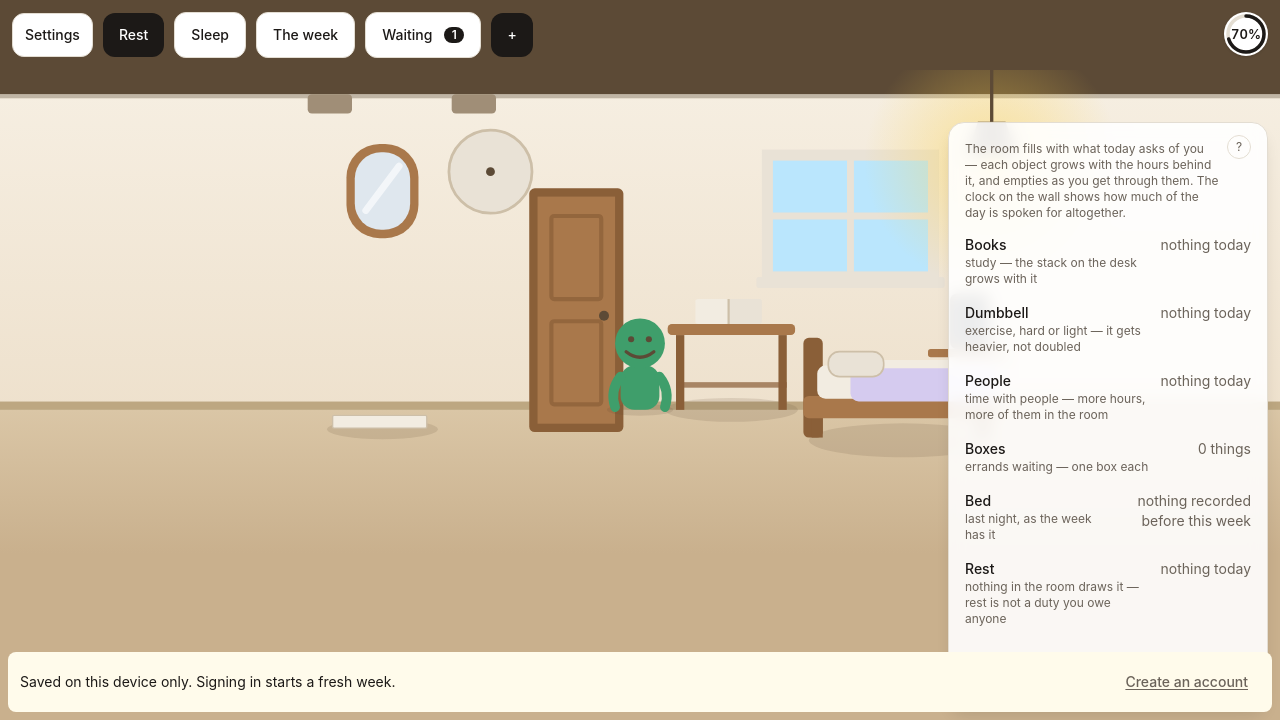
it: RoomShell with the planner › opens the planner and can be stepped back from without changing anything
Step 1. Click the button with test id "open-add" → coordinates (512, 35), box [491,13,533,57]
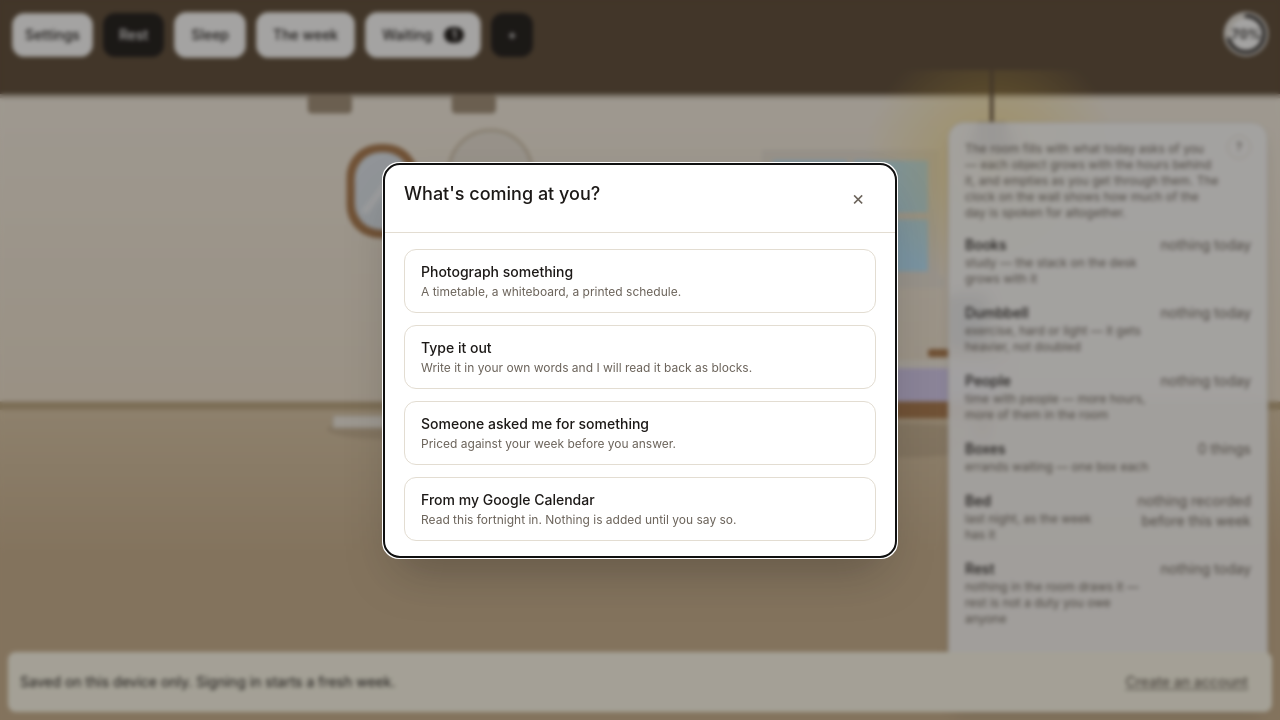
Step 2. Click the button with test id "add-type" → coordinates (640, 356), box [404,324,876,388]
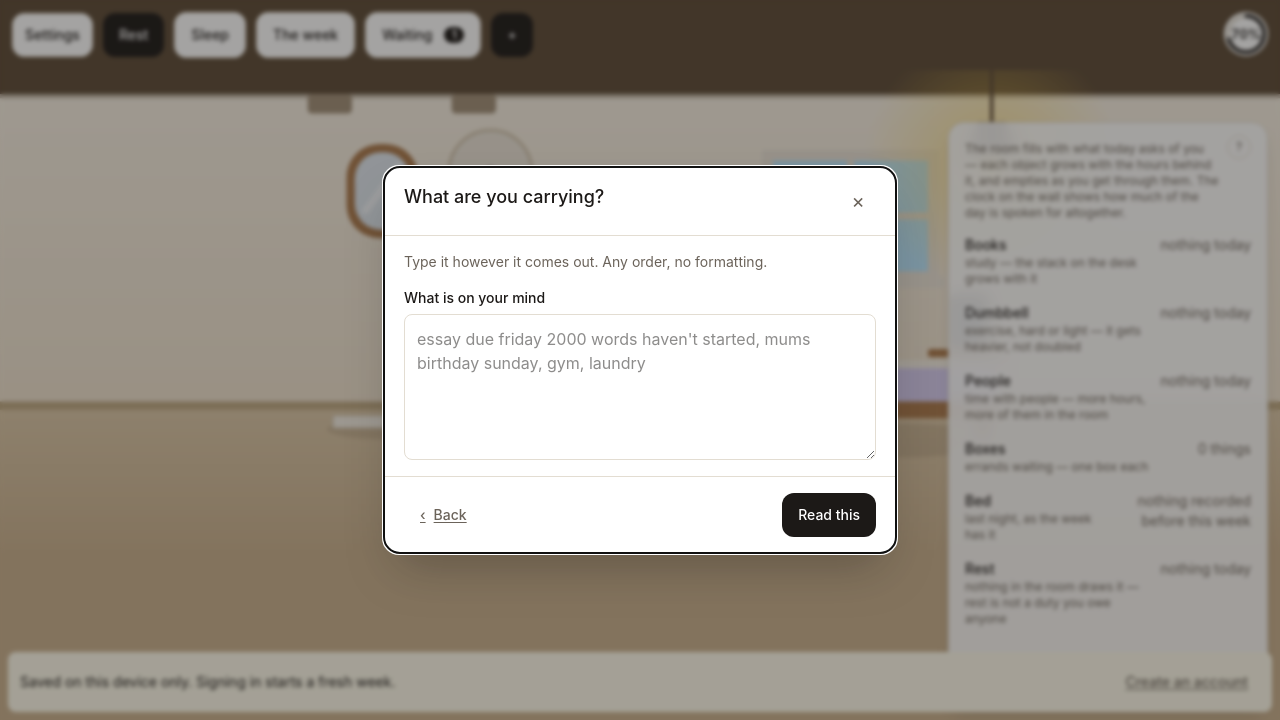
Step 3. Click the button with test id "sheet-back" → coordinates (443, 515), box [404,493,483,537]
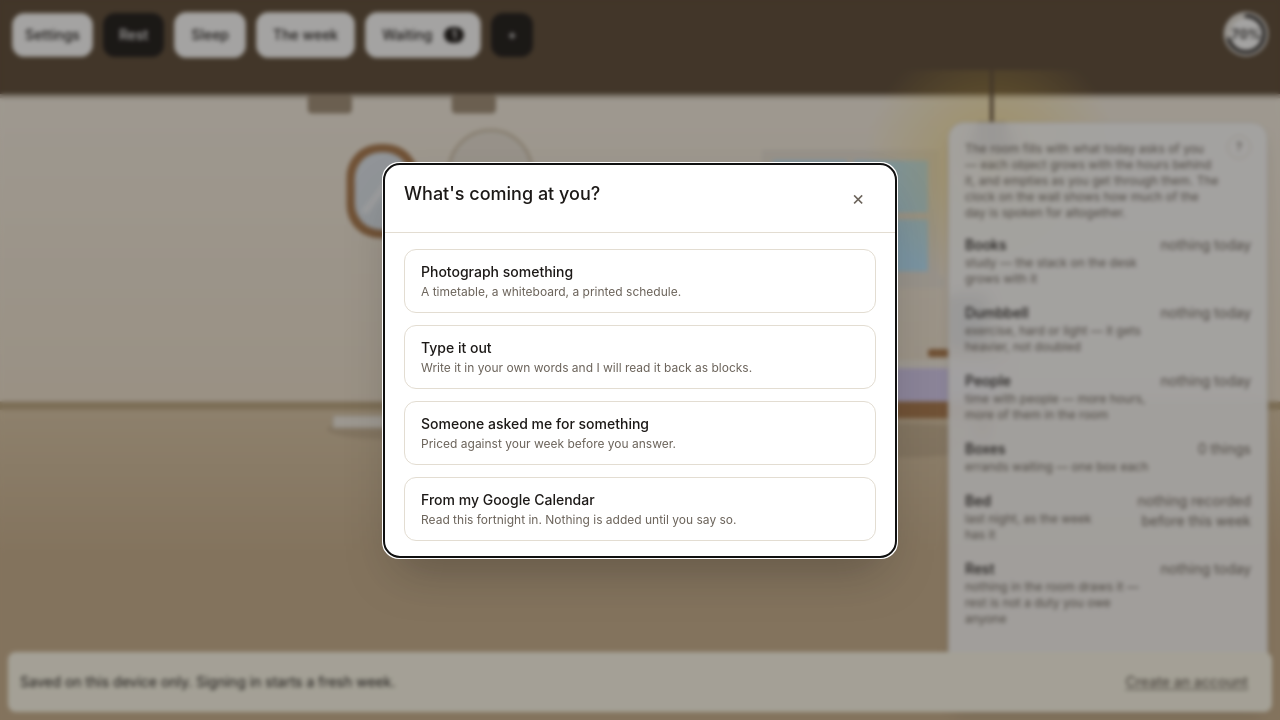
Now the button with test id "add-type" is shown, box [404,324,876,388]
